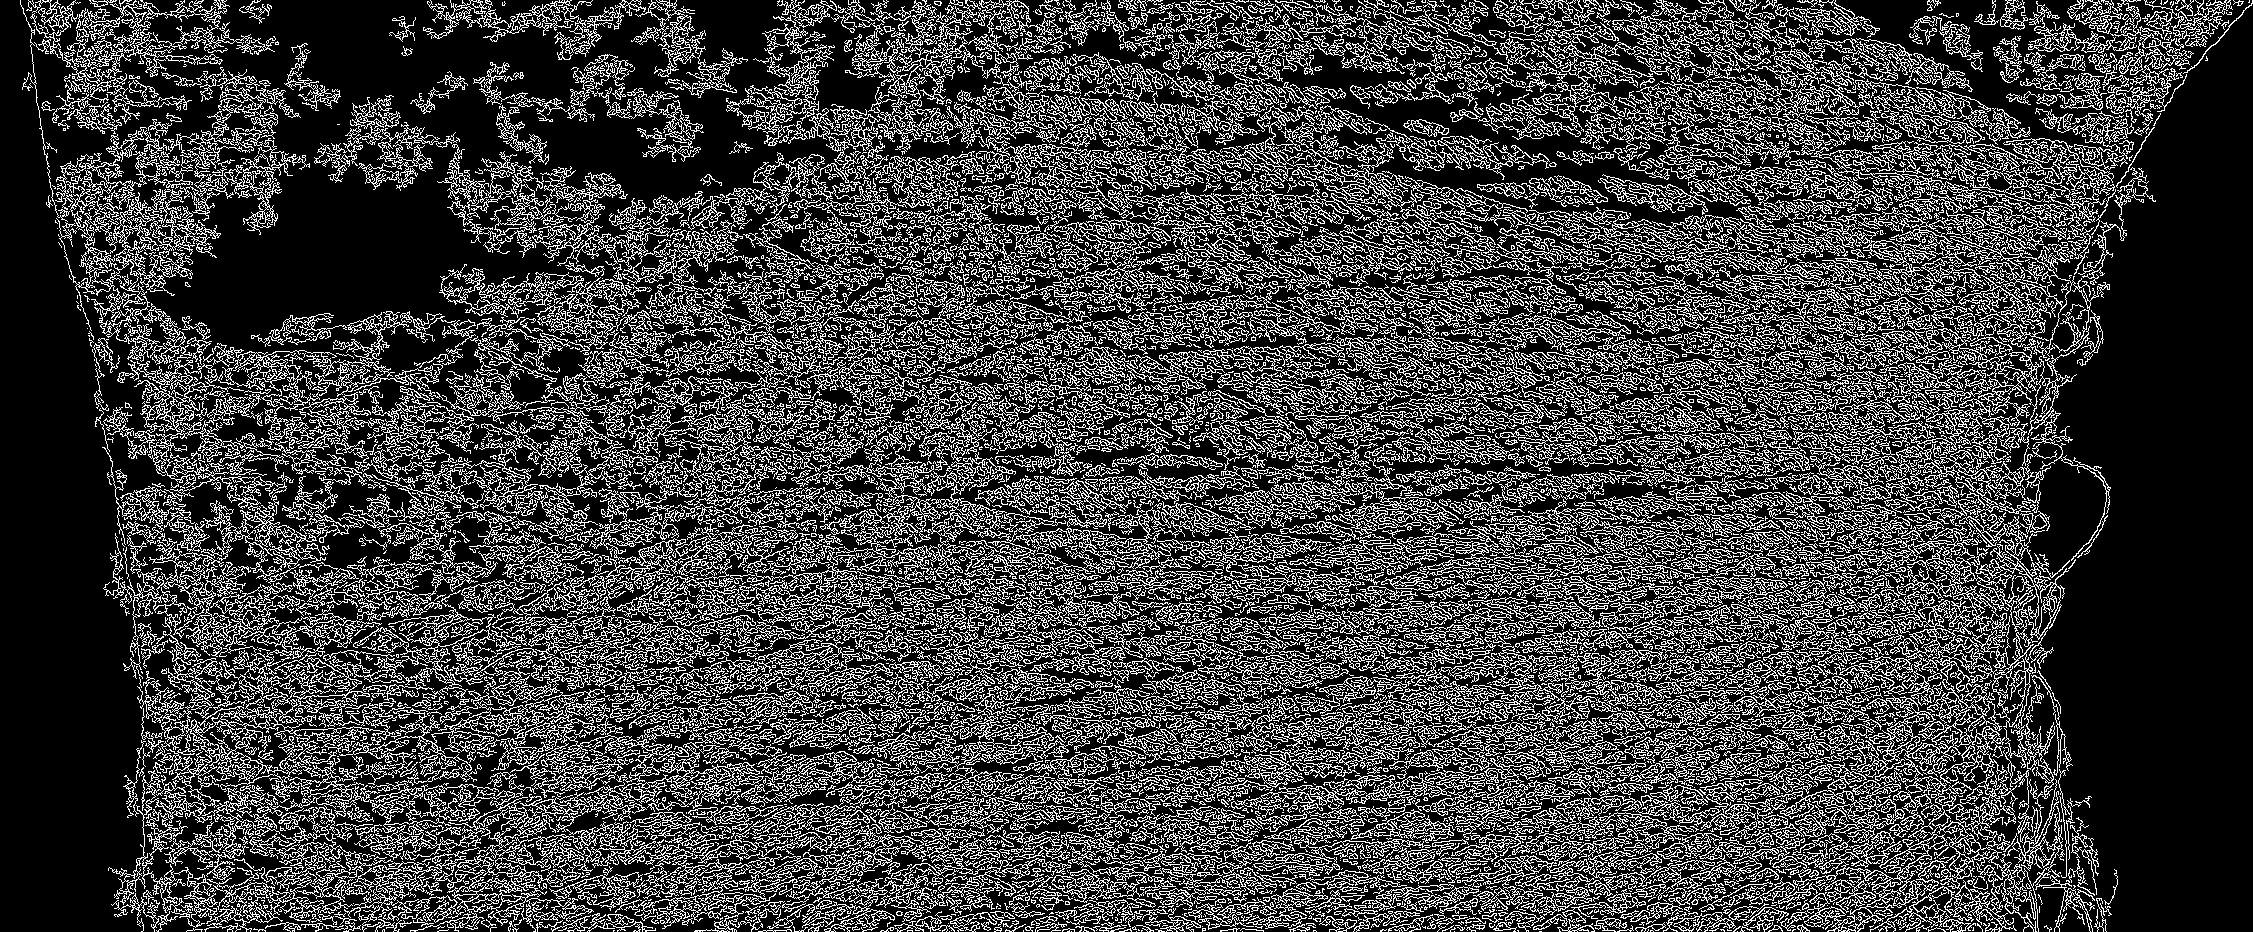singlecore: (754, 761, 759, 765), (1609, 597, 1614, 602), (731, 536, 736, 539), (731, 757, 736, 760), (1152, 373, 1157, 376), (1027, 381, 1032, 383), (1070, 676, 1073, 681), (1161, 811, 1164, 816), (1504, 371, 1509, 373), (1448, 294, 1453, 297), (1461, 299, 1466, 302), (1678, 603, 1683, 606), (223, 475, 226, 478), (256, 646, 259, 649), (746, 526, 749, 528), (759, 618, 762, 620), (795, 638, 797, 640), (741, 618, 744, 620), (694, 707, 697, 709), (790, 648, 793, 651), (785, 699, 787, 702), (737, 751, 740, 754), (805, 761, 808, 764), (721, 842, 724, 844), (741, 839, 744, 842), (793, 857, 796, 860), (805, 859, 808, 862), (698, 886, 701, 889), (667, 870, 670, 873), (1091, 460, 1093, 462), (1066, 393, 1069, 396), (1160, 371, 1162, 373), (1126, 368, 1129, 371), (1022, 408, 1024, 411), (1069, 648, 1072, 651), (1158, 666, 1161, 669), (1114, 752, 1116, 755), (1049, 684, 1052, 686), (1101, 672, 1104, 675), (1144, 774, 1147, 777), (1149, 742, 1152, 745), (1170, 783, 1172, 786), (1035, 773, 1037, 775), (1055, 820, 1058, 823), (1105, 783, 1108, 786), (1124, 852, 1126, 854), (1138, 876, 1141, 879), (1078, 808, 1081, 811), (1476, 359, 1479, 362), (1545, 404, 1548, 406), (1556, 386, 1559, 389), (1548, 391, 1550, 393), (1685, 580, 1688, 583), (1667, 605, 1670, 607), (1713, 642, 1716, 645), (1638, 602, 1641, 605), (1685, 628, 1688, 630), (1674, 589, 1677, 592), (1711, 590, 1714, 593), (1708, 600, 1711, 603), (1583, 674, 1586, 676), (1634, 652, 1637, 655), (1664, 727, 1667, 730), (1681, 731, 1684, 734), (1660, 717, 1662, 719), (1716, 750, 1718, 752), (710, 550, 713, 551), (1129, 831, 1131, 834), (1504, 320, 1506, 323)
